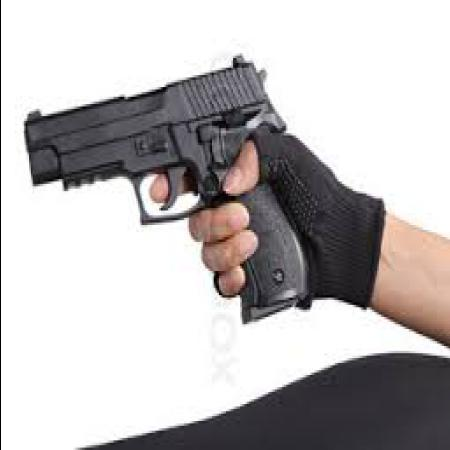Pistol: (25, 48, 313, 322)
